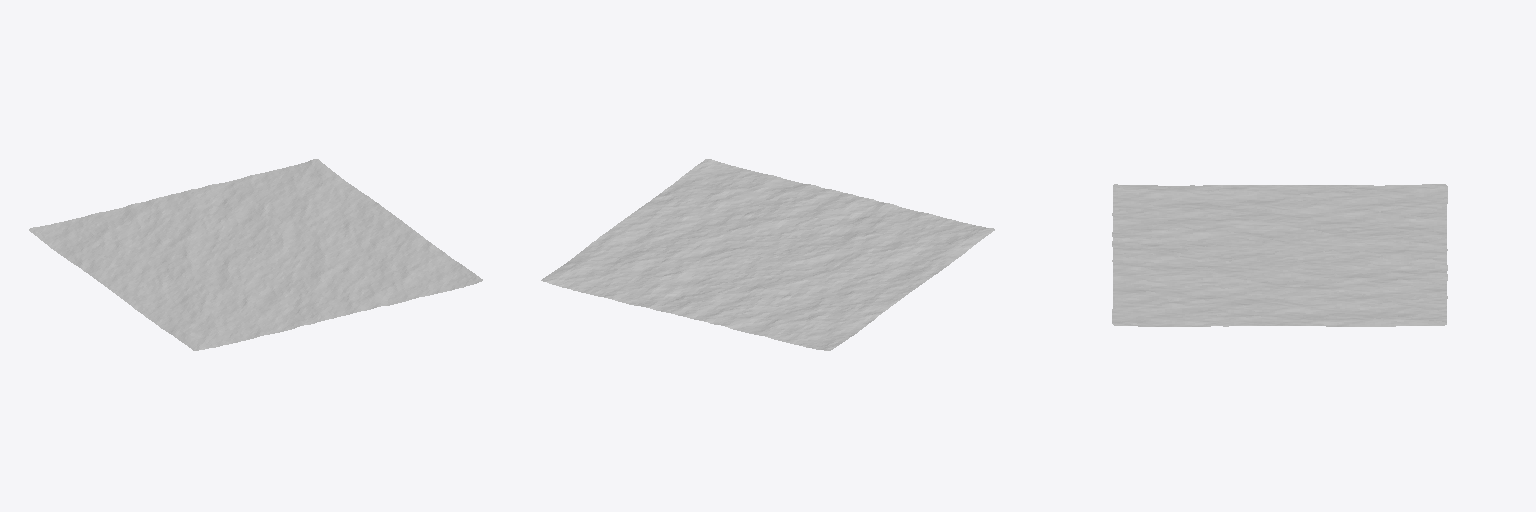
File: sea_000034.obj
3 renders of one model, left to right at view 1: azimuth 30°, elevation 25°; view 2: azimuth 150°, elevation 25°; view 3: azimuth 270°, elevation 25°, orthographic.
Parts seen in each view (by area): view 1: Plane; view 2: Plane; view 3: Plane.
Boxes of the visible parts, x1=… form: Plane: x1=29, y1=159, x2=482, y2=350; Plane: x1=541, y1=159, x2=994, y2=350; Plane: x1=1112, y1=184, x2=1447, y2=326.
Size of the model in its own units: 201 by 1.62 by 201.